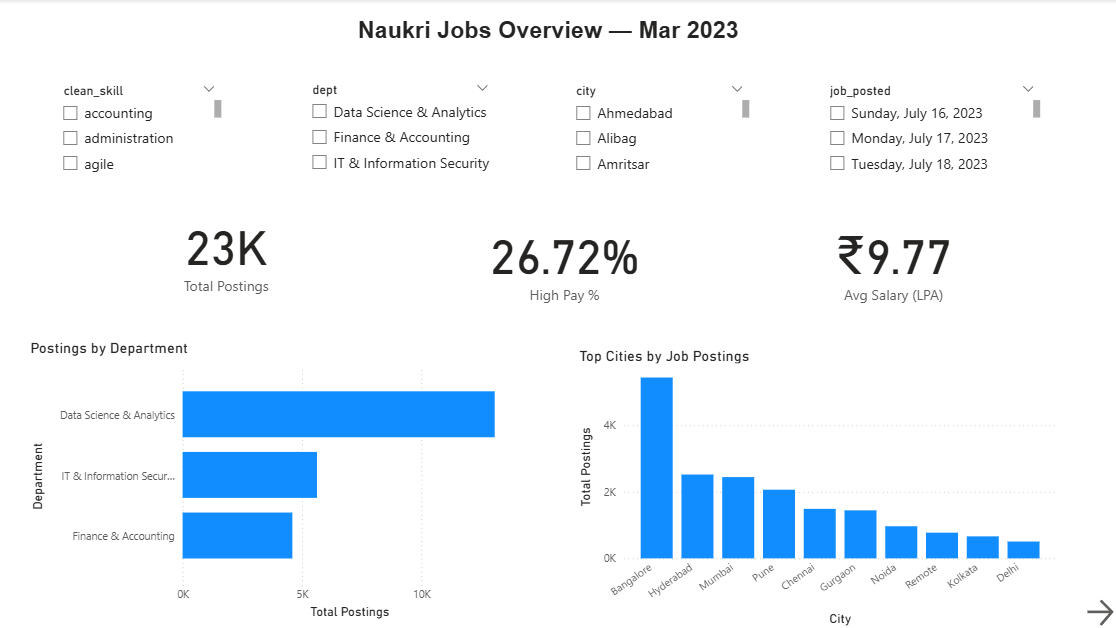

This screenshot's page, from the dashboard's own definition file:
{"tool":"powerbi","page":{"name":"Overview","canvas":[1280,720],"ordinal":0},"visuals":[{"type":"card","fields":{"Values":["_Measures.Total Postings"]},"box":[163.3,182.5,197.6,211.3],"z":0},{"type":"card","fields":{"Values":["_Measures.Avg Salary (LPA)"]},"box":[883.7,192.1,279.9,211.3],"z":1000},{"type":"card","fields":{"Values":["_Measures.High Pay %"]},"box":[517.3,192.1,262.1,211.3],"z":2000},{"type":"barChart","title":"Postings by Department","fields":{"Category":["DimDepts.dept"],"Y":["_Measures.Total Postings"]},"box":[34.3,388.3,575,323.8],"z":3000},{"type":"slicer","fields":{"Values":["DimSkills.clean_skill"]},"box":[64.5,90.6,197.6,122.1],"z":4000},{"type":"slicer","fields":{"Values":["DimDepts.dept"]},"box":[347.1,90,225.7,122.9],"z":5000},{"type":"slicer","fields":{"Values":["DimLocations.city"]},"box":[649.1,90.6,215.4,122.1],"z":6000},{"type":"slicer","fields":{"Values":["FactJobs.job_posted"]},"box":[937.2,90.6,258,122.1],"z":7000},{"type":"textbox","box":[64.3,15.7,1131.4,52.9],"z":8000},{"type":"columnChart","title":"Top Cities by Job Postings","fields":{"Category":["FactJobs.city"],"Y":["_Measures.Total Postings"]},"box":[660,396.3,554.5,323.6],"z":9000},{"type":"actionButton","box":[1238.7,679.9,41.3,39.9],"z":10000}]}

Visuals, with their boxes in screenshot pixels (x1, y1, x2, y2), scaled from the page's 1280x720 canvas onto the 1116x628 screenshot:
card - _Measures.Total Postings: <box>142,159,315,343</box>
card - _Measures.Avg Salary (LPA): <box>770,168,1015,352</box>
card - _Measures.High Pay %: <box>451,168,680,352</box>
"Postings by Department" barChart: <box>30,339,531,621</box>
slicer - DimSkills.clean_skill: <box>56,79,229,186</box>
slicer - DimDepts.dept: <box>303,78,499,186</box>
slicer - DimLocations.city: <box>566,79,754,186</box>
slicer - FactJobs.job_posted: <box>817,79,1042,186</box>
textbox: <box>56,14,1043,60</box>
"Top Cities by Job Postings" columnChart: <box>575,346,1059,627</box>
actionButton: <box>1080,593,1115,627</box>
